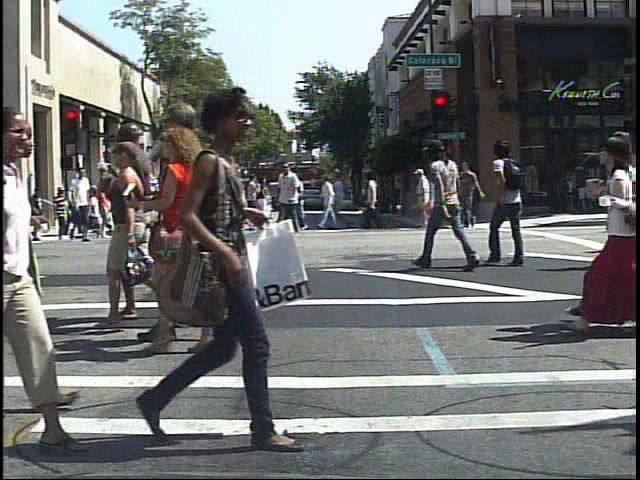person: (148, 77, 293, 457), (141, 120, 251, 359), (144, 95, 218, 349), (564, 119, 638, 346), (410, 129, 477, 271), (484, 134, 542, 274), (174, 153, 210, 248), (65, 163, 95, 246), (131, 160, 162, 240), (118, 162, 147, 243), (415, 165, 436, 221), (53, 183, 72, 240), (86, 182, 106, 224)
